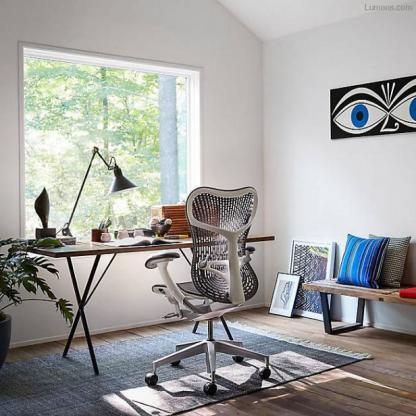chair: (141, 185, 278, 397)
light: (45, 139, 145, 246), (303, 217, 315, 227)
table: (13, 212, 287, 369)
